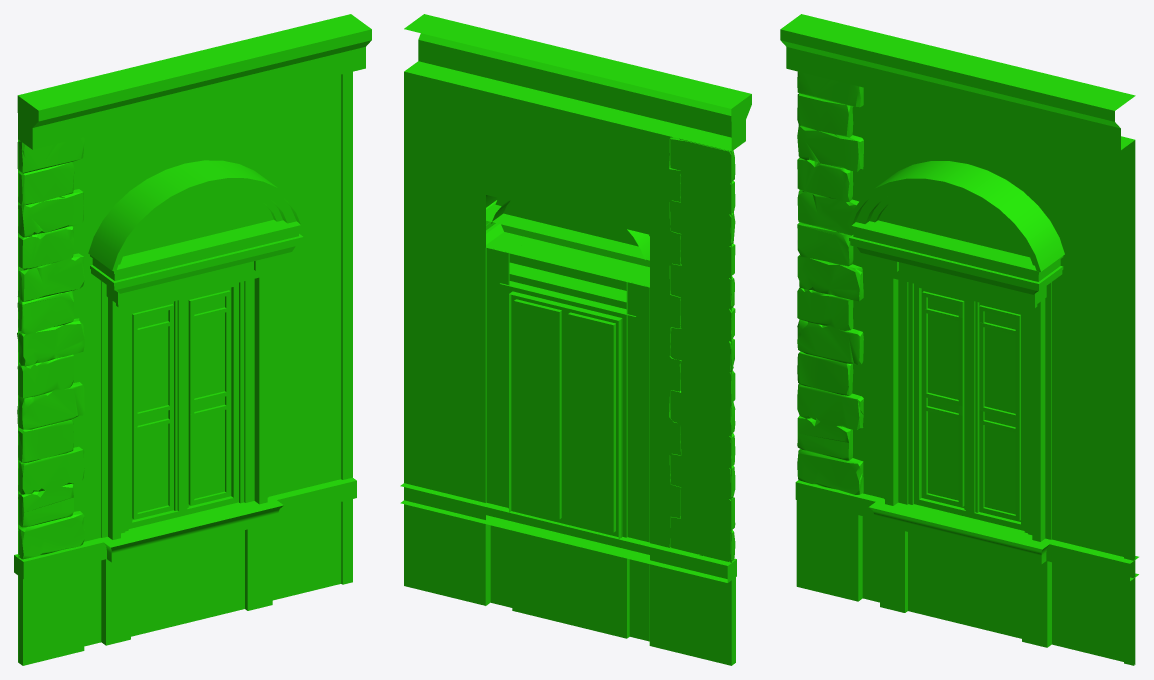
The model's file is SM_JShouse_2F_L.fbx.
3 views of the same model, side by side, from view 1: azimuth 30°, elevation 25°; view 2: azimuth 150°, elevation 25°; view 3: azimuth 330°, elevation 25° (orthographic). The views are drawn at different scales.
Parts seen in each view (by area): view 1: SM_JShouse2F_L; view 2: SM_JShouse2F_L; view 3: SM_JShouse2F_L.
Boxes of the visible parts, x1,y1,x2,y2 form: SM_JShouse2F_L: (14,14,371,665); SM_JShouse2F_L: (400,14,751,665); SM_JShouse2F_L: (780,14,1138,665).
Bounding box in the file's own units: 320 × 520 × 47.02.
